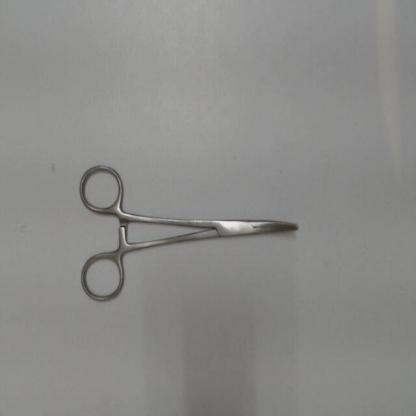Crile Artery Forceps: (78, 155, 312, 311)
